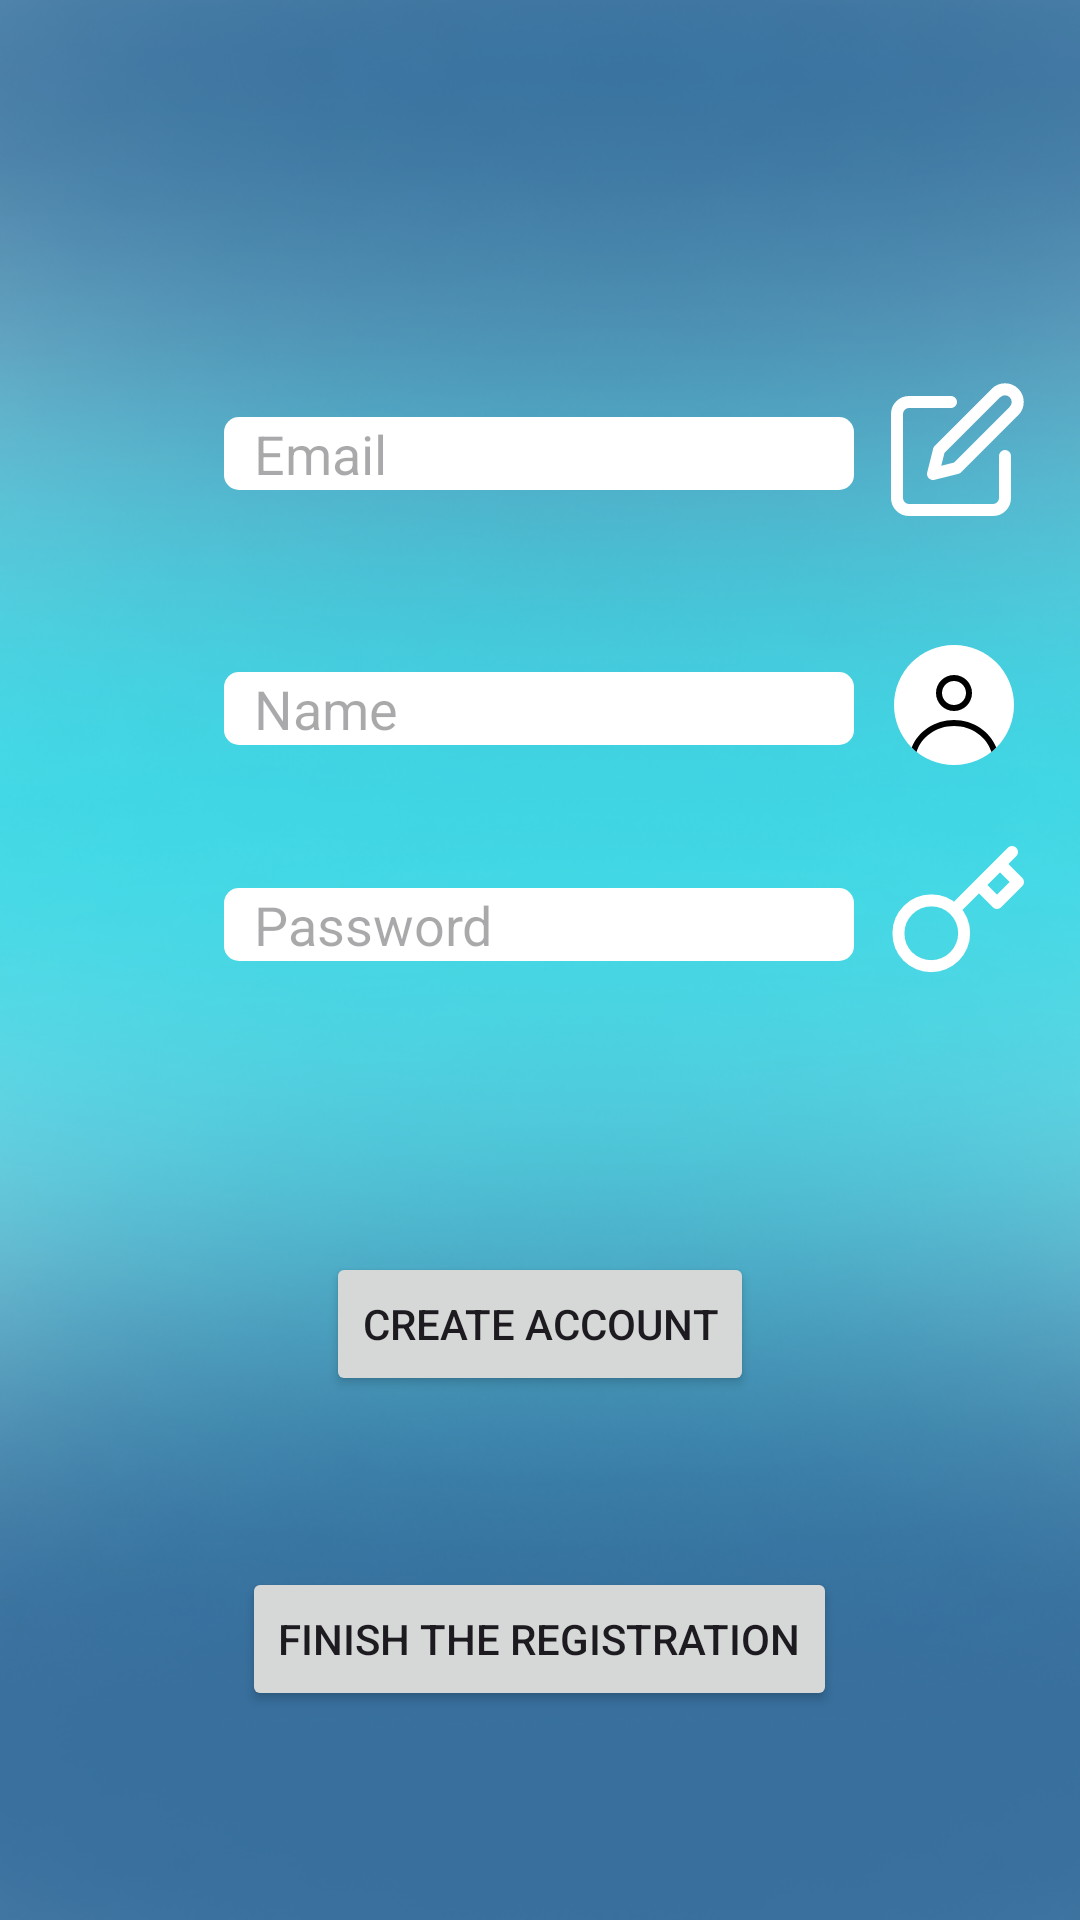

Named icons in this screenshot (1080×1920) and their centers, point (x, y):
keypass: point (958, 909)
penciledit: point (958, 454)
profileicon: point (954, 705)
